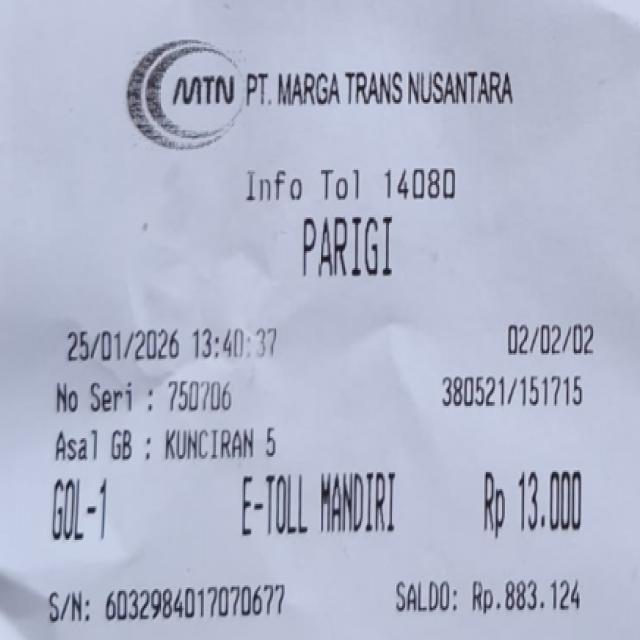date: (53, 328, 290, 362)
store: (239, 69, 514, 111)
total: (469, 464, 604, 550)
